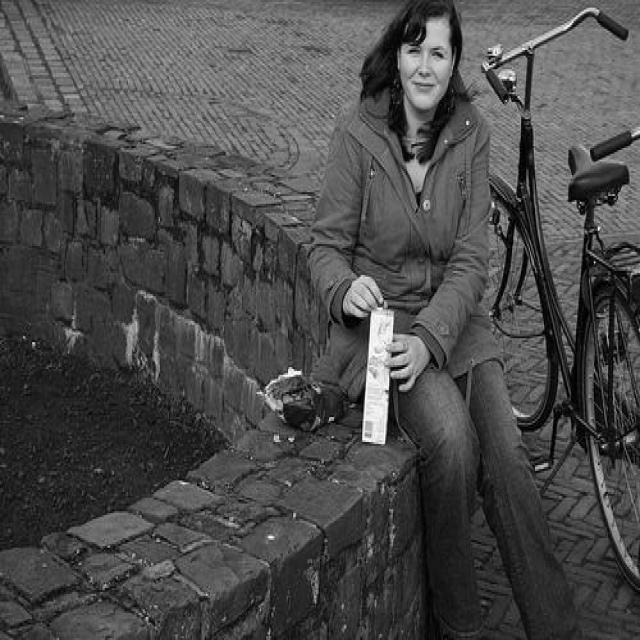Non-Gloves: (336, 259, 394, 331), (383, 327, 431, 397)
